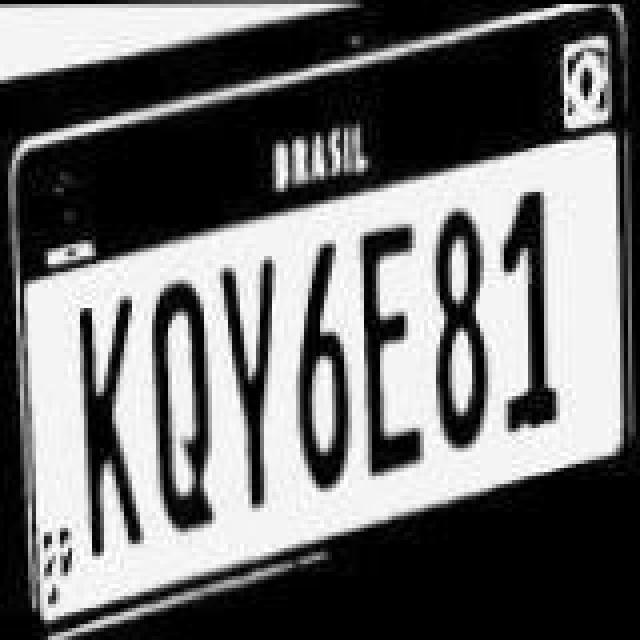1: (498, 192, 574, 440)
6: (292, 230, 356, 494)
8: (424, 210, 496, 454)
E: (356, 216, 428, 480)
K: (76, 272, 144, 560)
Q: (144, 254, 220, 530)
Y: (220, 248, 296, 520)
